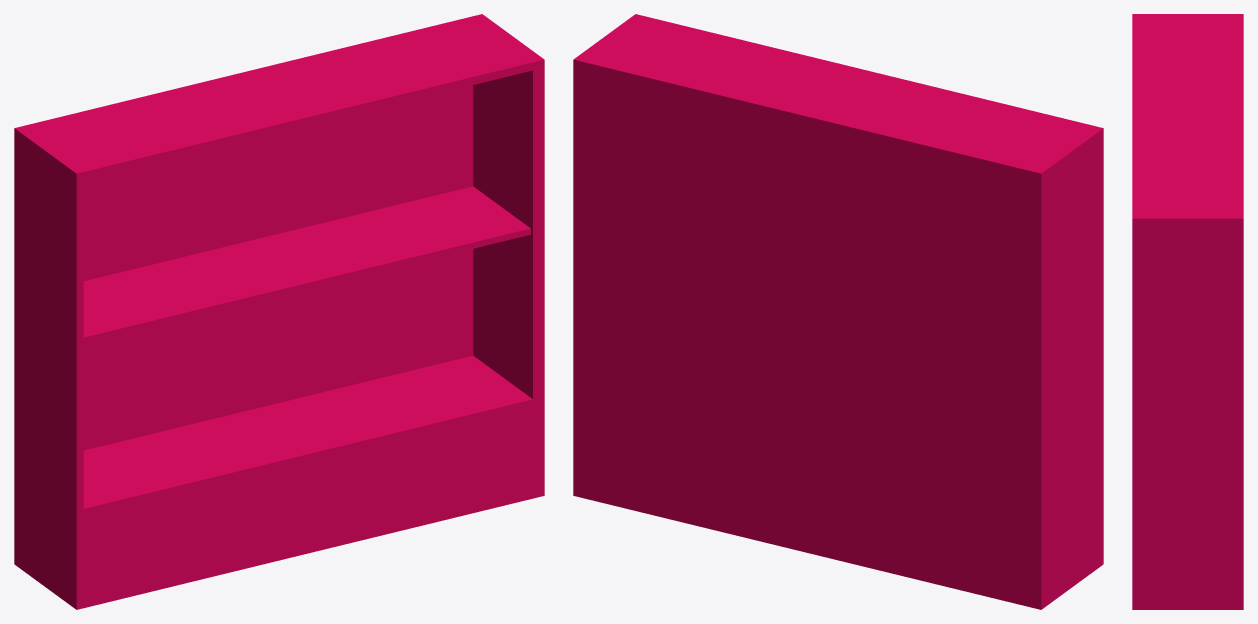
File: Glass_Cupboard_Lod0.fbx
3 renders of one model, left to right at view 1: azimuth 30°, elevation 25°; view 2: azimuth 150°, elevation 25°; view 3: azimuth 270°, elevation 25°, orthographic. The views are drawn at different scales.
Parts seen in each view (by area): view 1: Glass_Cupboard_Lod0; view 2: Glass_Cupboard_Lod0; view 3: Glass_Cupboard_Lod0.
Part boxes in pixels (x1=…): Glass_Cupboard_Lod0: x1=14, y1=14, x2=544, y2=609; Glass_Cupboard_Lod0: x1=573, y1=14, x2=1103, y2=609; Glass_Cupboard_Lod0: x1=1132, y1=14, x2=1243, y2=609.
Size of the model in its own units: 100 by 89.48 by 23.15.
